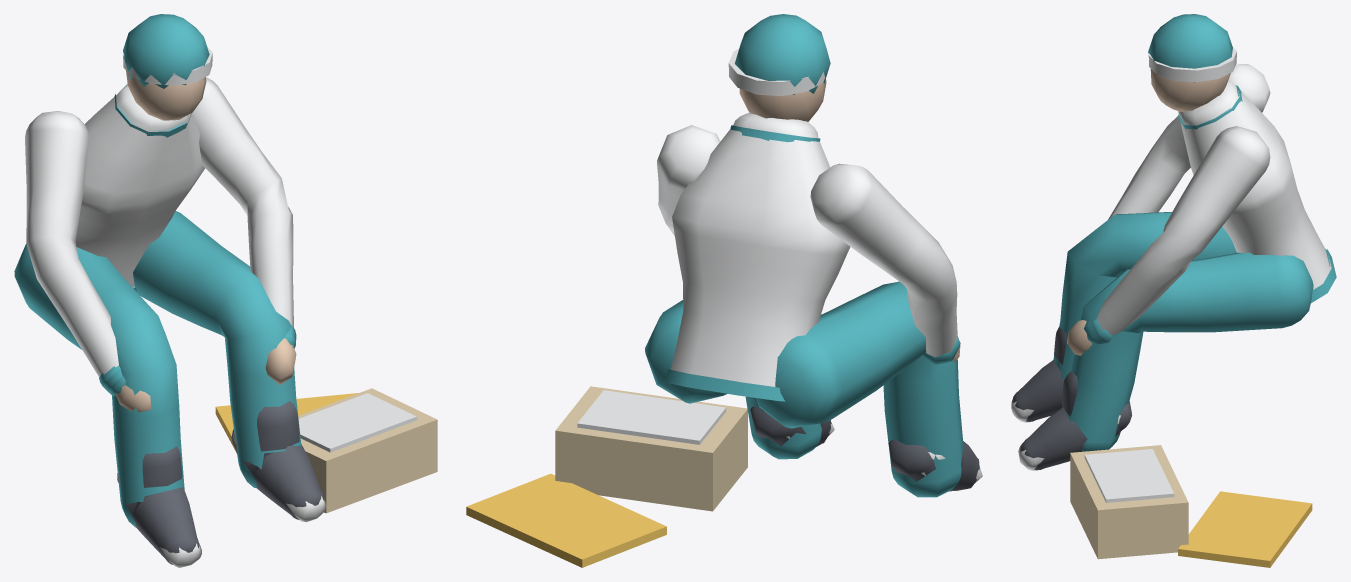
File: snowboard-gear-and-freestyle-riders-customer-boot-fitt-ad89d2bc__27175.glb
3 renders of one model, left to right at view 1: azimuth 30°, elevation 25°; view 2: azimuth 150°, elevation 25°; view 3: azimuth 270°, elevation 25°, orthographic. The views are drawn at different scales.
Parts seen in each view (by area): view 1: customer-boot-fitting; view 2: customer-boot-fitting; view 3: customer-boot-fitting.
Boxes of the visible parts, x1,y1,x2,y2 form: customer-boot-fitting: [14, 14, 437, 567]; customer-boot-fitting: [466, 14, 982, 567]; customer-boot-fitting: [1011, 14, 1336, 567].
Bounding box in the file's own units: 1.07 × 1.26 × 0.8435.
